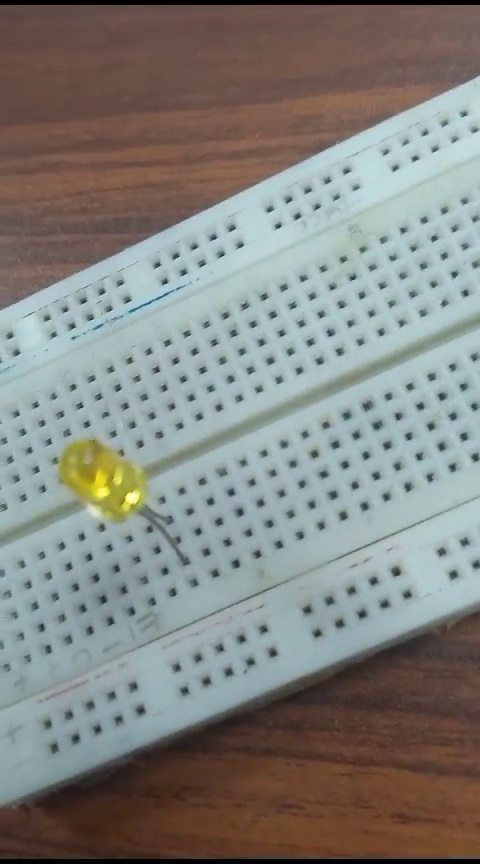LED: (40, 428, 207, 568)
